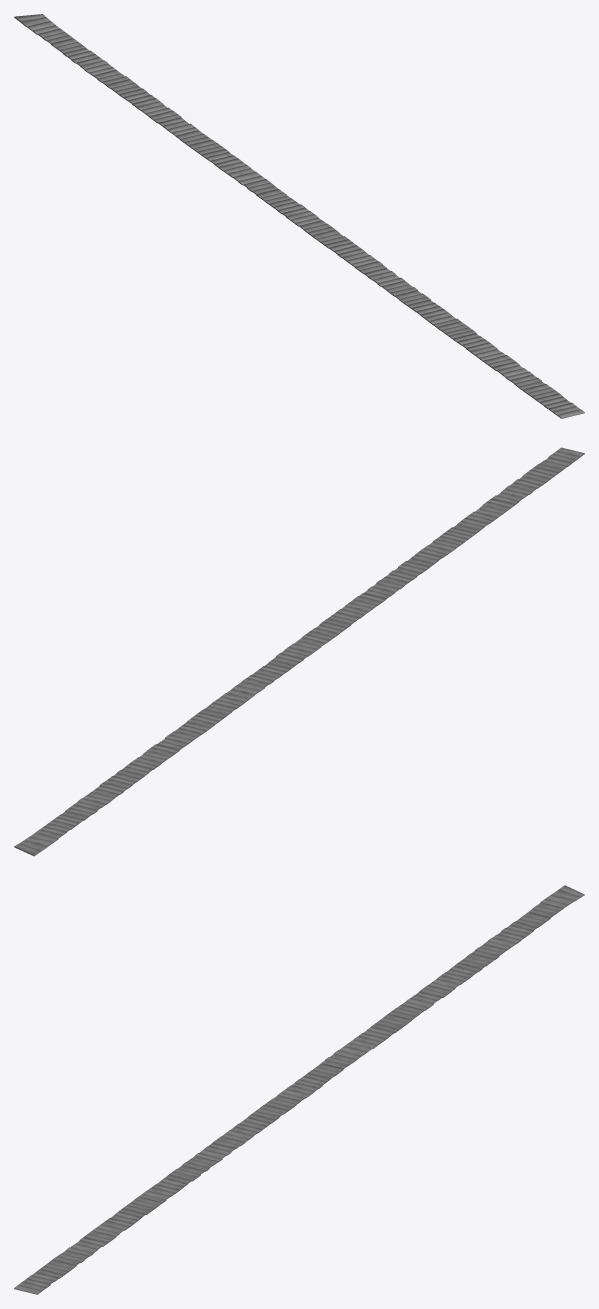
The model's file is SM_ENV_LKNVLD_Ground_Right_trim_Wood_C.FBX.
The picture shows the model from 3 angles, top to bottom: view 1: azimuth 30°, elevation 25°; view 2: azimuth 150°, elevation 25°; view 3: azimuth 330°, elevation 25°; orthographic projection.
Parts seen in each view (by area): view 1: SM_ENV_LKNVLD_Ground_Right_trim_Wood_C; view 2: SM_ENV_LKNVLD_Ground_Right_trim_Wood_C; view 3: SM_ENV_LKNVLD_Ground_Right_trim_Wood_C.
Boxes of the visible parts, box(x1,y1,x2,y2) form: SM_ENV_LKNVLD_Ground_Right_trim_Wood_C: box(14, 14, 584, 418); SM_ENV_LKNVLD_Ground_Right_trim_Wood_C: box(14, 447, 584, 856); SM_ENV_LKNVLD_Ground_Right_trim_Wood_C: box(14, 885, 584, 1294).
Bounding box in the file's own units: 135 × 6.95 × 5020.
